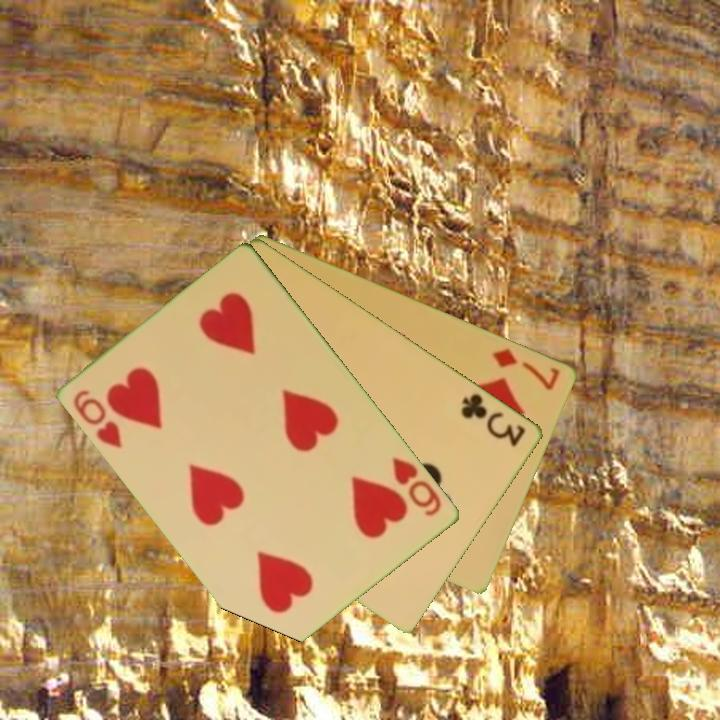3c: (457, 389, 529, 450)
6h: (388, 453, 445, 520), (70, 386, 126, 452)
7d: (489, 344, 563, 393)
